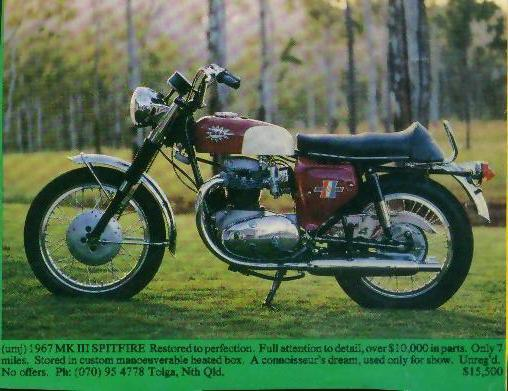motorcycle: (20, 63, 505, 327)
